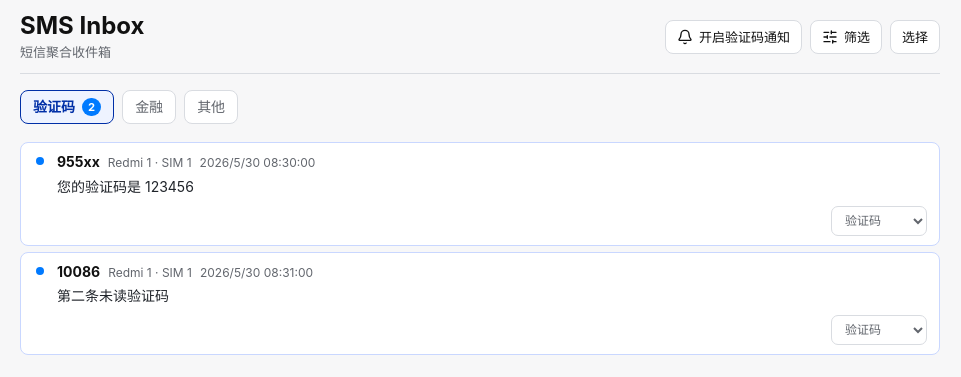
Test: InboxApp › keeps select mode clicks as selection instead of opening details
Check: the text "第二条未读验证码" is shown, box left=57, top=288, right=169, bottom=304
Step 1. Click the button "选择" → (915, 37), box left=890, top=20, right=940, bottom=54
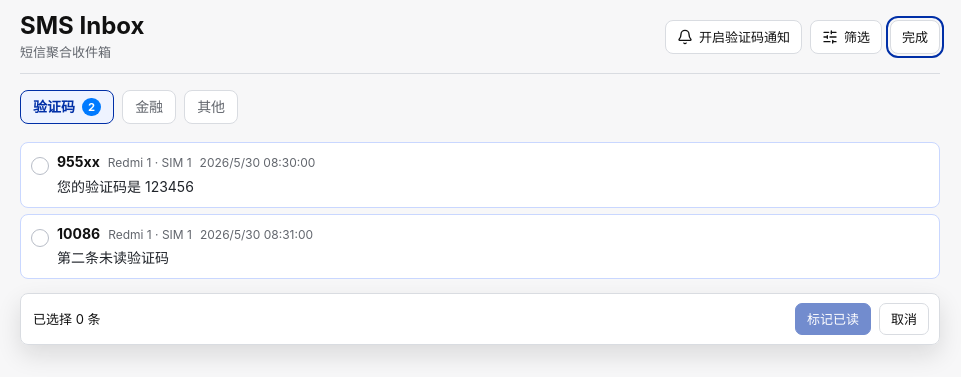
Step 2. Click the button with aria-label "短信 955xx" → (78, 162), box left=57, top=153, right=315, bottom=195
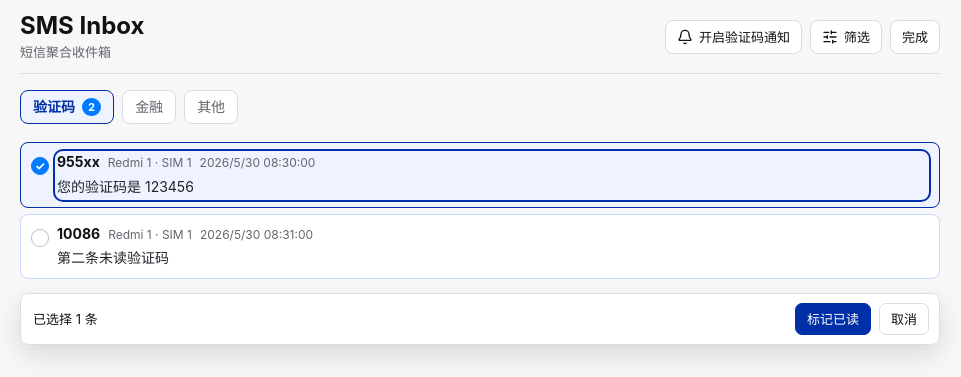
Check: the text "已选择 1 条" is shown, box left=33, top=309, right=98, bottom=328
